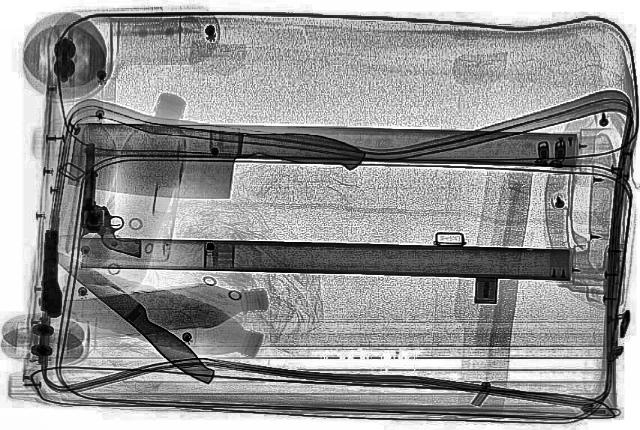Gun: (78, 142, 144, 256)
Knife: (55, 113, 371, 211), (38, 240, 224, 389), (34, 231, 66, 319)
